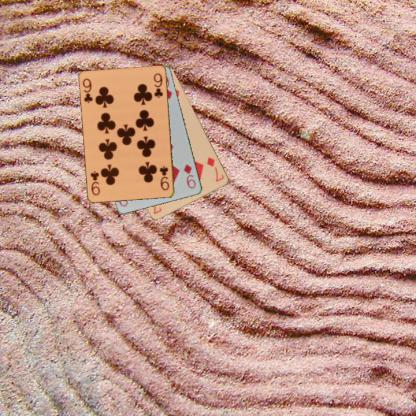7d: (204, 154, 226, 183)
9c: (157, 163, 171, 192), (80, 76, 94, 104)
9d: (181, 162, 197, 190)
